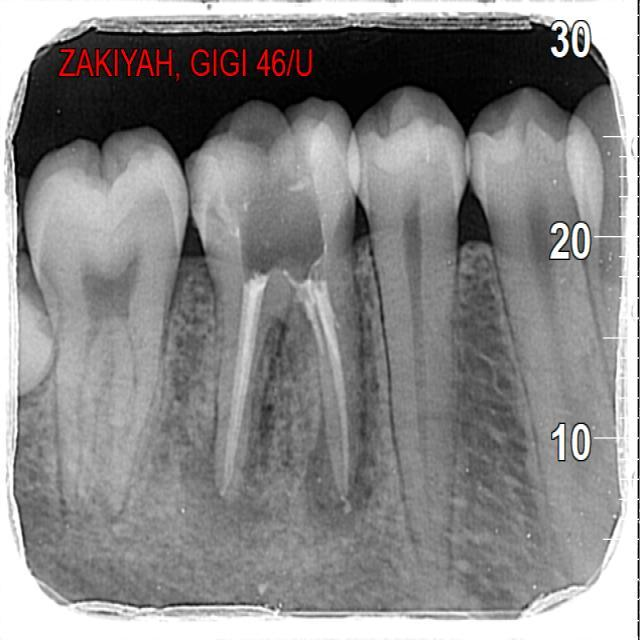individual-tooth-8tto: (460, 89, 623, 587), (186, 98, 373, 503), (343, 85, 479, 576), (23, 129, 188, 520)
